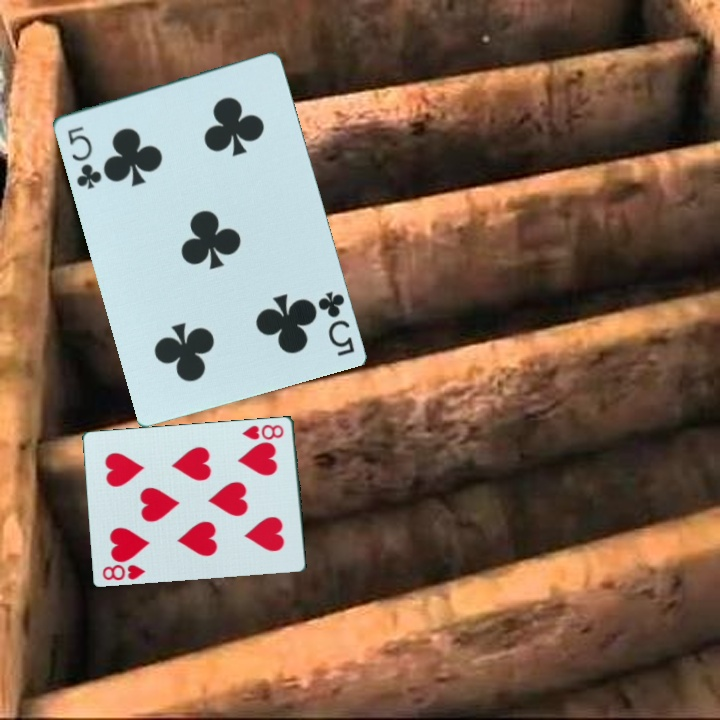5c: (313, 287, 357, 359), (63, 122, 104, 192)
8h: (99, 560, 148, 583), (239, 420, 287, 442)
